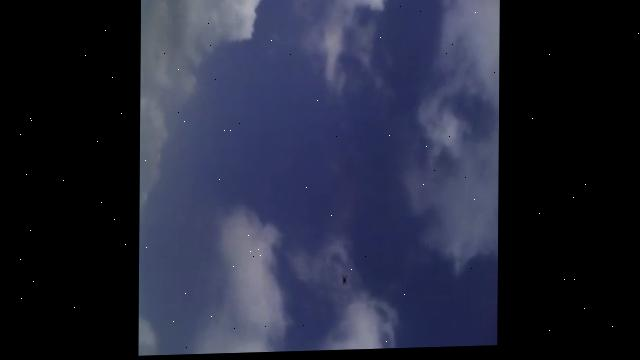drone: (339, 275, 351, 291)
